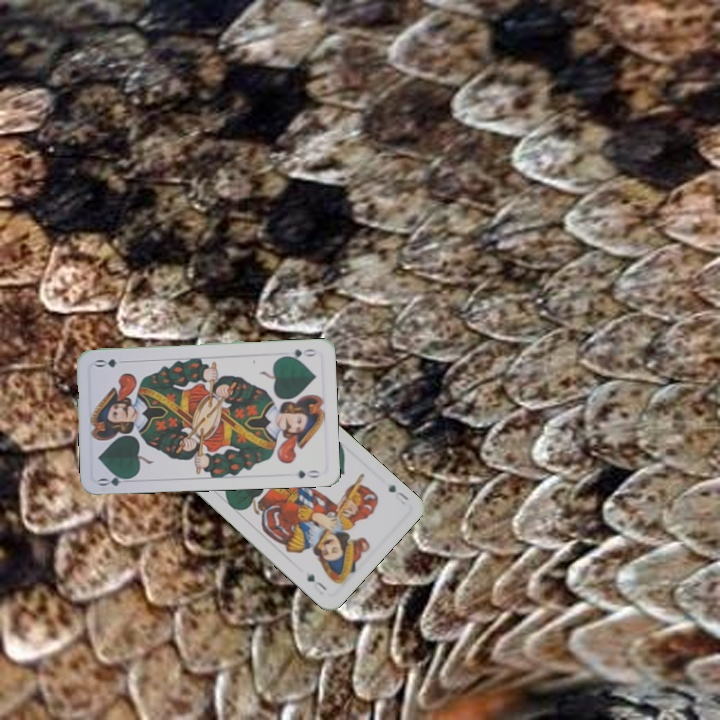GO: (95, 470, 135, 489), (279, 345, 319, 362)
GU: (384, 480, 411, 508)
